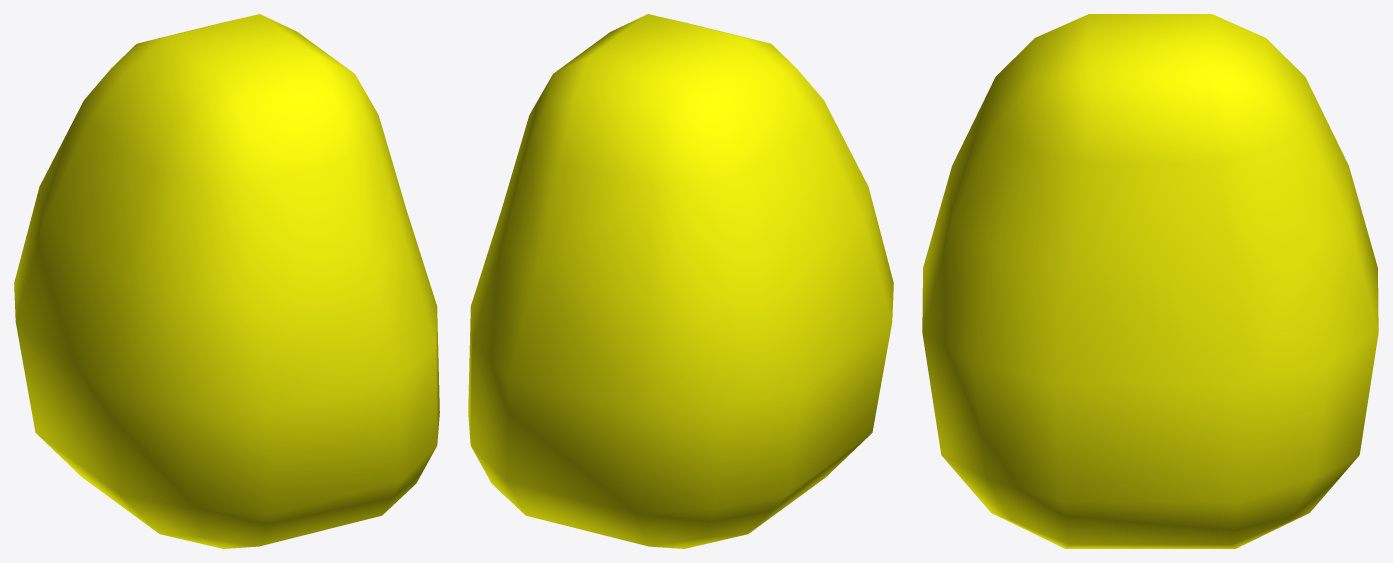
File: food_ingredient_potato.gltf
3 renders of one model, left to right at view 1: azimuth 30°, elevation 25°; view 2: azimuth 150°, elevation 25°; view 3: azimuth 270°, elevation 25°, orthographic. The views are drawn at different scales.
Parts seen in each view (by area): view 1: food_ingredient_potato; view 2: food_ingredient_potato; view 3: food_ingredient_potato.
Boxes of the visible parts, left/top/right/bottom form: food_ingredient_potato: left=14, top=14, right=439, bottom=548; food_ingredient_potato: left=468, top=14, right=893, bottom=548; food_ingredient_potato: left=922, top=14, right=1378, bottom=548.
Bounding box in the file's own units: 0.6 × 0.78 × 0.68.
1 material, 1 textured.
